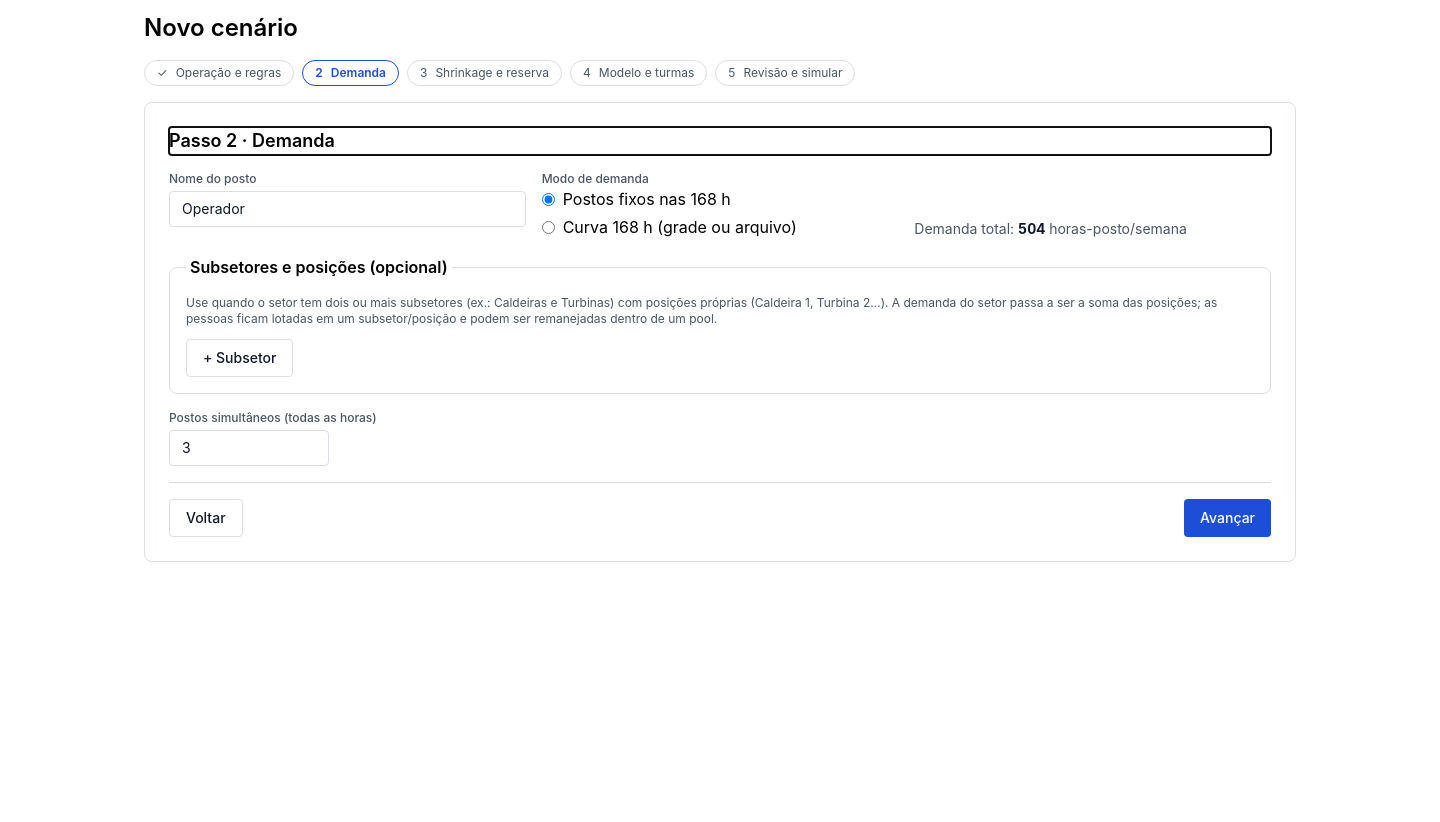
Test: Wizard de 5 passos (A26/A47) › passo 2: grade 168 h exige demanda > 0; CSV inválido lista erros
Click the radio button labelled "Curva 168 h (grade ou arquivo)" at [548, 227], box [542,220,555,234]
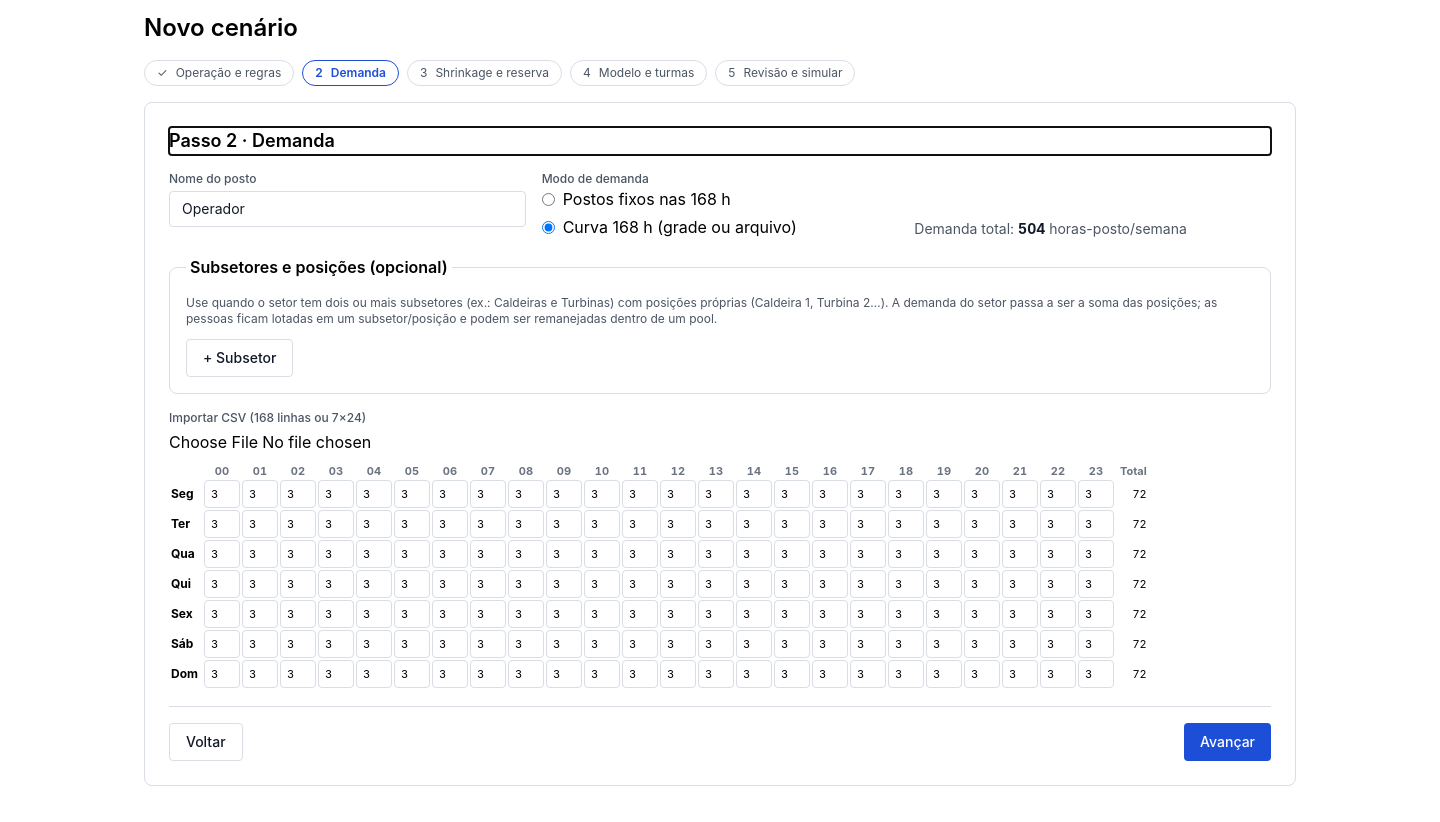
Check: the number of number fields named "Seg 00h" is 168
